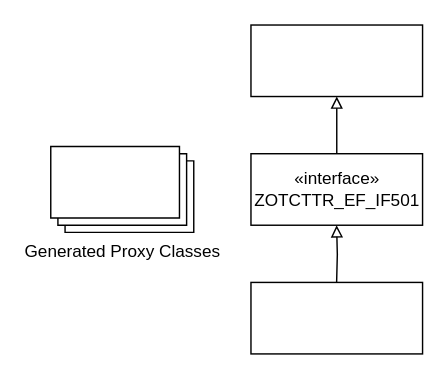
Image size: 448x379. Some labels were removed from this diagram. Each missing label, with the box of its shape:
ZOTCT_UTILS: (250, 24, 423, 97)
ZOTCTTR_EF_CL501: (250, 281, 423, 354)
